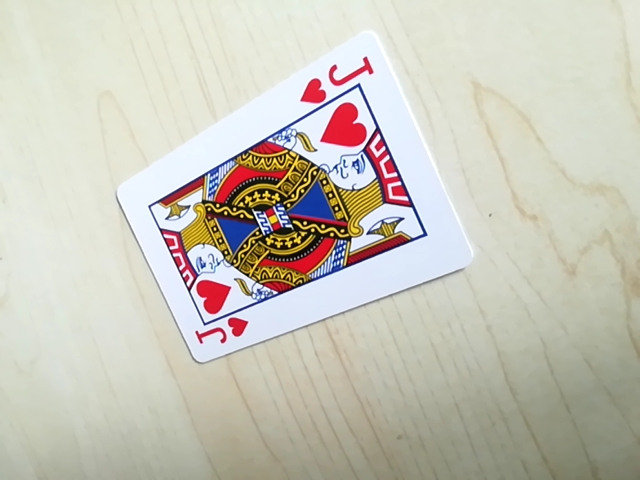hx j: (294, 49, 377, 106), (188, 313, 252, 357)
